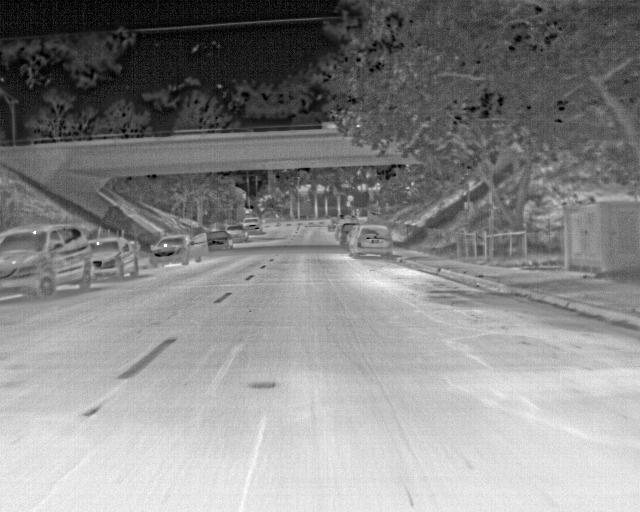car: (2, 227, 92, 302), (88, 235, 139, 284), (149, 235, 201, 266), (348, 224, 392, 259), (203, 228, 232, 251), (336, 224, 360, 251), (228, 222, 248, 244), (242, 214, 262, 234)
